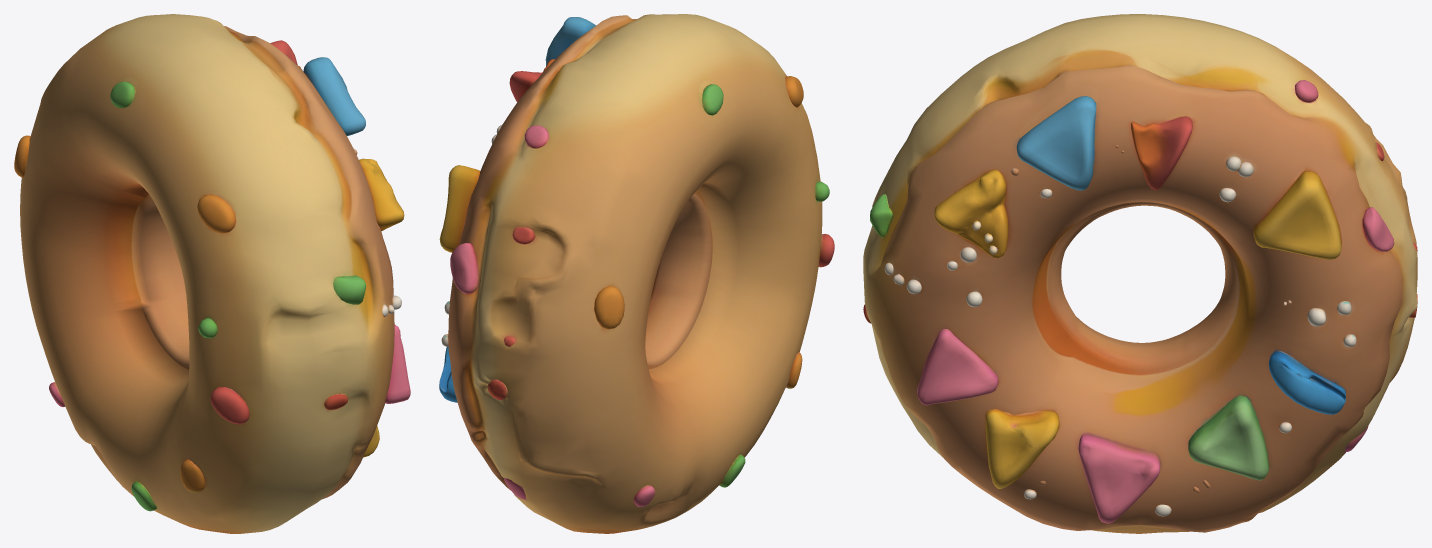
Rendered from donut.glb.
The picture shows the model from 3 angles, left to right: view 1: azimuth 30°, elevation 25°; view 2: azimuth 150°, elevation 25°; view 3: azimuth 270°, elevation 25°; orthographic projection. The views are drawn at different scales.
Visible parts, largest first — view 1: tripo_node_619c9184-fc3b-45b6-ba45-74d7e3831aef; view 2: tripo_node_619c9184-fc3b-45b6-ba45-74d7e3831aef; view 3: tripo_node_619c9184-fc3b-45b6-ba45-74d7e3831aef.
Part boxes in pixels (box(x1,y1,x2,y2)): tripo_node_619c9184-fc3b-45b6-ba45-74d7e3831aef: box(14, 14, 410, 533); tripo_node_619c9184-fc3b-45b6-ba45-74d7e3831aef: box(439, 14, 834, 533); tripo_node_619c9184-fc3b-45b6-ba45-74d7e3831aef: box(863, 14, 1417, 533).
Size of the model in its own units: 0.4702 by 0.9927 by 0.9995.
Materials: 1 (1 with a texture image).
